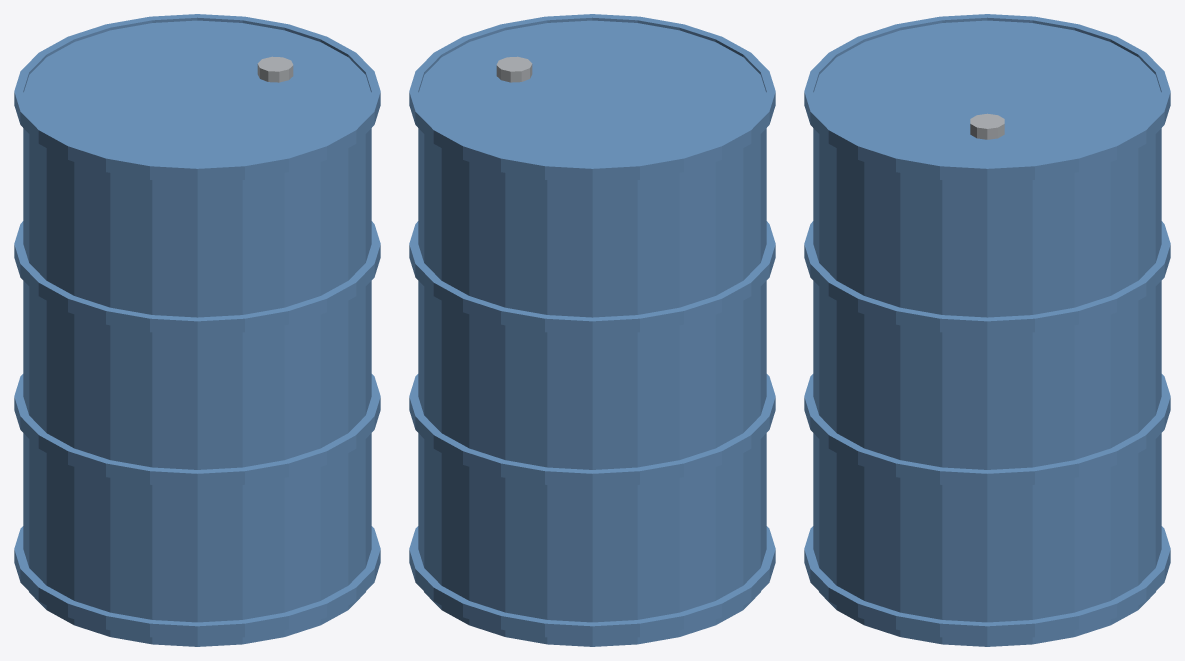
File: drum.glb
3 views of the same model, side by side, from view 1: azimuth 30°, elevation 25°; view 2: azimuth 150°, elevation 25°; view 3: azimuth 270°, elevation 25° (orthographic).
Parts seen in each view (by area): view 1: drum_drum_b, drum_steel; view 2: drum_drum_b, drum_steel; view 3: drum_drum_b, drum_steel.
Boxes of the visible parts, x1,y1,x2,y2 form: drum_drum_b: (14,14,380,646); drum_steel: (257,56,293,82); drum_drum_b: (409,14,775,646); drum_steel: (496,56,532,82); drum_drum_b: (804,14,1170,646); drum_steel: (970,113,1004,139).
Bounding box in the file's own units: 0.61 × 0.9 × 0.61.
